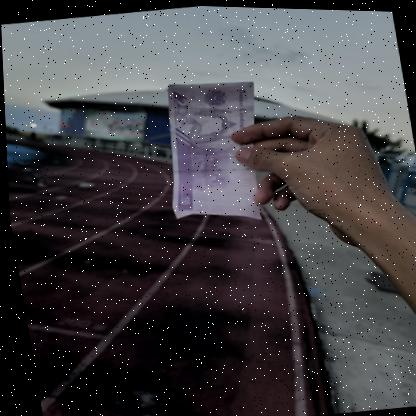one_hundred-back-vef: (149, 71, 275, 229)
